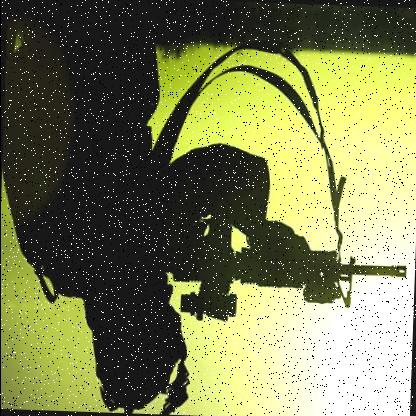rifle: (158, 203, 408, 334)
